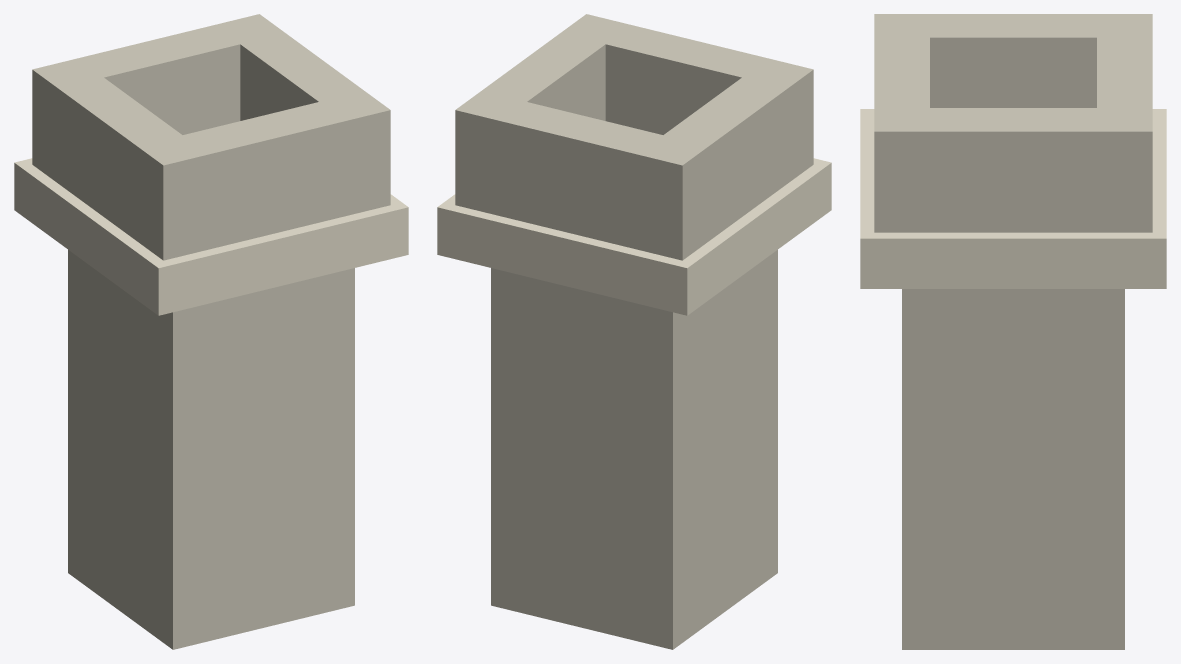
The model's file is roof-chimney.glb.
3 renders of one model, left to right at view 1: azimuth 30°, elevation 25°; view 2: azimuth 150°, elevation 25°; view 3: azimuth 270°, elevation 25°, orthographic. The views are drawn at different scales.
Parts seen in each view (by area): view 1: roof-chimney; view 2: roof-chimney; view 3: roof-chimney.
Part boxes in pixels (x1=…): roof-chimney: x1=14, y1=14, x2=408, y2=649; roof-chimney: x1=437, y1=14, x2=831, y2=649; roof-chimney: x1=860, y1=14, x2=1166, y2=649.
Size of the model in its own units: 1.1 by 2.1 by 1.1.
